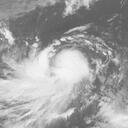cyclone: (41, 45, 91, 96)
